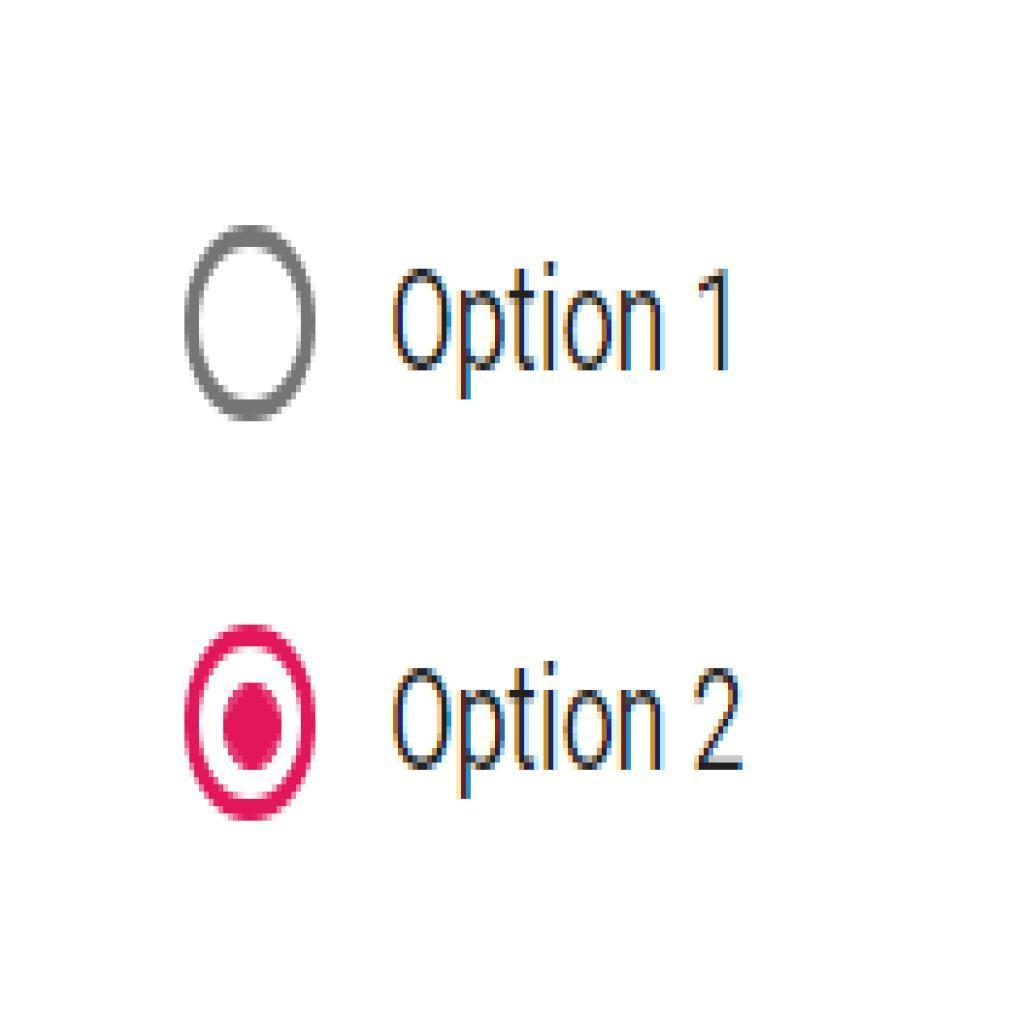radio: (172, 204, 335, 458), (172, 600, 327, 842)
